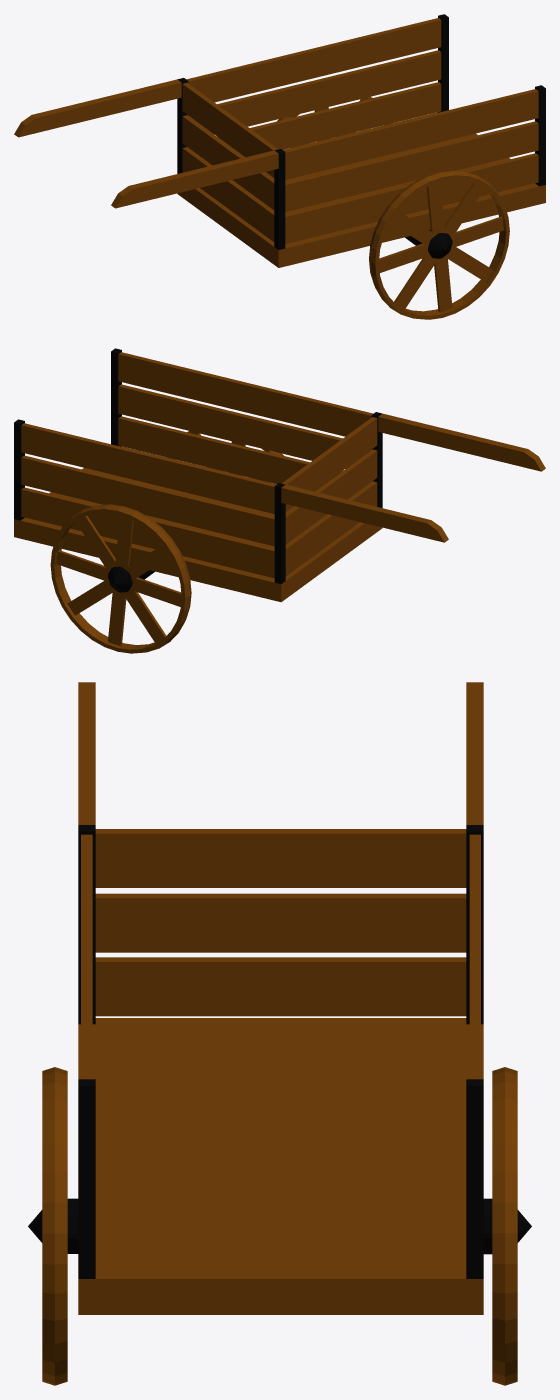
The model's file is cart (1).fbx.
3 renders of one model, top to bottom at view 1: azimuth 30°, elevation 25°; view 2: azimuth 150°, elevation 25°; view 3: azimuth 270°, elevation 25°, orthographic. The views are drawn at different scales.
Visible parts, largest first — view 1: Cube, Circle.003, Cube.004, Cube.005, Cube.003, Cube.002, Cube.006, Cube.001, Cube.009, Cube.008, Cube.007; view 2: Cube, Circle.002, Cube.003, Cube.002, Cube.004, Cube.005, Cube.001, Cube.006, Cube.009, Cube.008, Cube.007; view 3: Cube, Cube.007, Cube.008, Cube.009, Circle.003, Circle.002, Cube.004, Cube.003.
Boxes of the visible parts, x1=… form: Cube: x1=14, y1=14, x2=545, y2=267; Circle.003: x1=369, y1=170, x2=509, y2=319; Cube.004: x1=283, y1=89, x2=538, y2=179; Cube.005: x1=285, y1=121, x2=538, y2=212; Cube.003: x1=186, y1=18, x2=441, y2=102; Cube.002: x1=188, y1=50, x2=441, y2=134; Cube.006: x1=285, y1=153, x2=538, y2=243; Cube.001: x1=217, y1=82, x2=441, y2=157; Cube.009: x1=182, y1=82, x2=277, y2=177; Cube.008: x1=182, y1=115, x2=274, y2=210; Cube.007: x1=182, y1=147, x2=274, y2=241; Cube: x1=14, y1=348, x2=545, y2=602; Circle.002: x1=50, y1=504, x2=191, y2=653; Cube.003: x1=21, y1=423, x2=275, y2=513; Cube.002: x1=21, y1=455, x2=274, y2=546; Cube.004: x1=118, y1=352, x2=372, y2=436; Cube.005: x1=118, y1=384, x2=370, y2=468; Cube.001: x1=21, y1=487, x2=274, y2=578; Cube.006: x1=118, y1=416, x2=343, y2=491; Cube.009: x1=282, y1=417, x2=377, y2=511; Cube.008: x1=285, y1=449, x2=377, y2=544; Cube.007: x1=285, y1=481, x2=377, y2=576; Cube: x1=78, y1=682, x2=483, y2=1314; Cube.007: x1=95, y1=957, x2=466, y2=1016; Cube.008: x1=95, y1=893, x2=466, y2=952; Cube.009: x1=95, y1=829, x2=466, y2=887; Circle.003: x1=28, y1=1067, x2=78, y2=1385; Circle.002: x1=483, y1=1067, x2=531, y2=1385; Cube.004: x1=81, y1=834, x2=92, y2=1079; Cube.003: x1=469, y1=834, x2=480, y2=1079.
Size of the model in its own units: 640 by 280 by 324.
